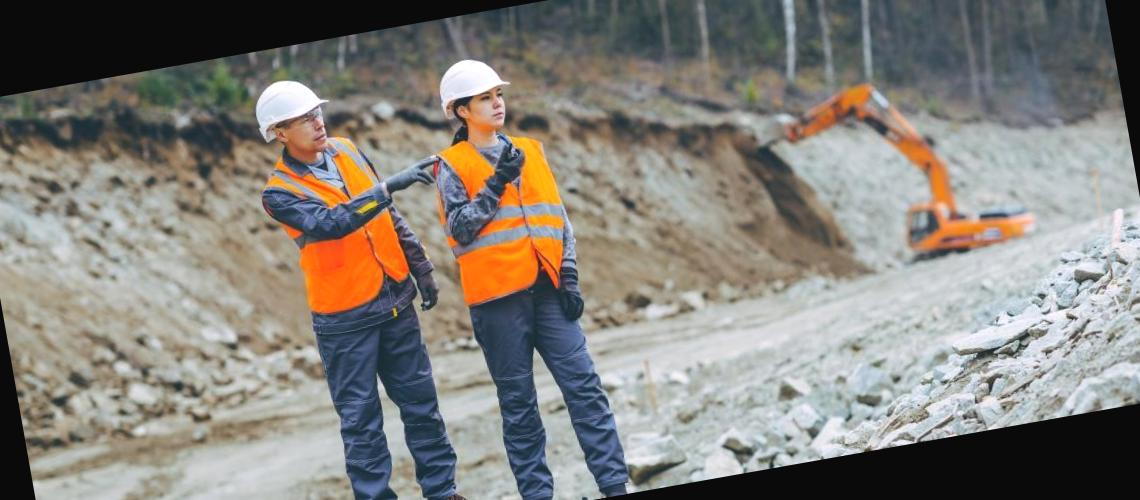helmet: (421, 50, 519, 121), (248, 72, 339, 138)
person: (405, 32, 643, 500), (239, 52, 486, 500)
